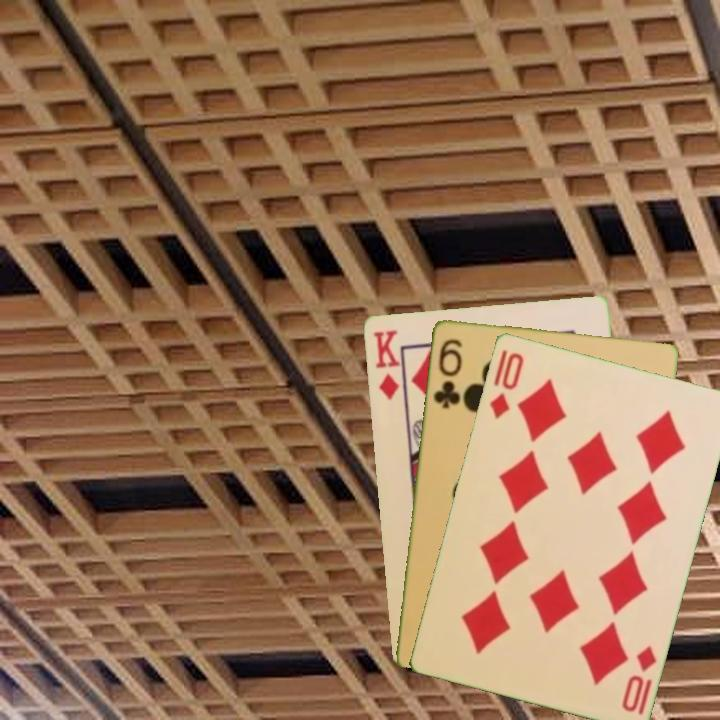10d: (485, 346, 527, 422), (618, 641, 660, 715)
6c: (429, 335, 465, 411)
Kd: (369, 326, 402, 402)
